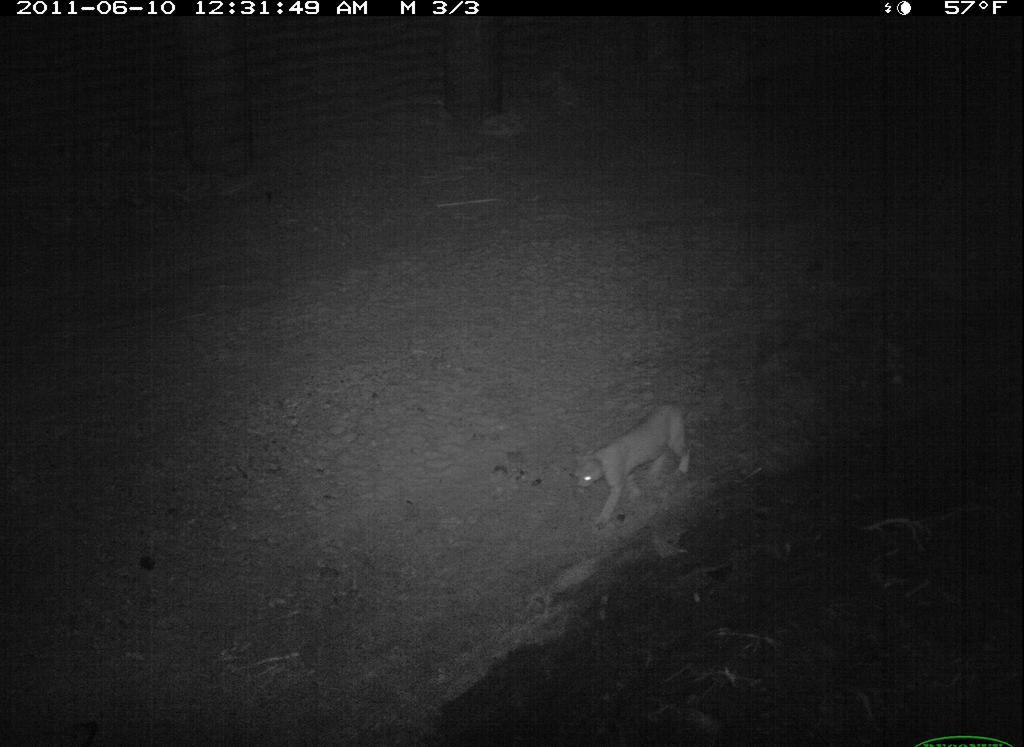bobcat: (571, 396, 697, 534)
